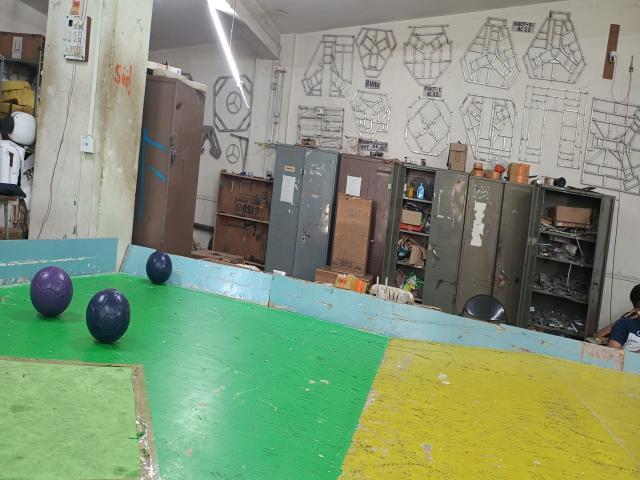jambhalya: (30, 267, 72, 317)
kaalyya: (86, 288, 130, 343), (146, 252, 172, 285)
